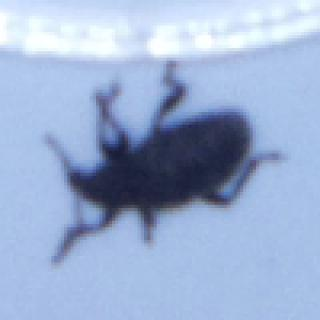bvw: (46, 58, 283, 262)
